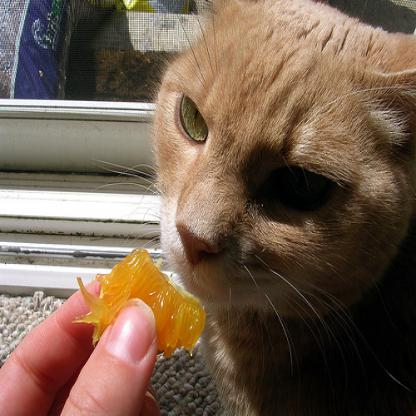cat: (150, 0, 415, 415)
